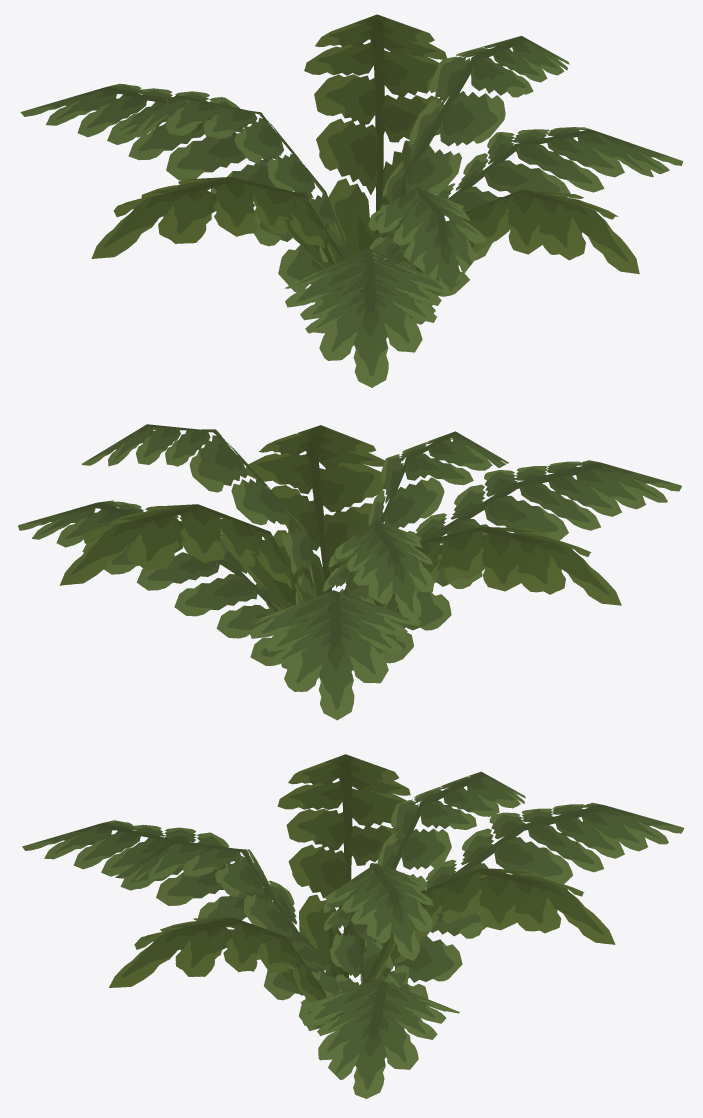
File: SM_Env_Fern_02.fbx
3 views of the same model, one above another, from view 1: azimuth 30°, elevation 25°; view 2: azimuth 150°, elevation 25°; view 3: azimuth 270°, elevation 25° (orthographic). The views are drawn at different scales.
Visible parts, largest first — view 1: SM_Env_Fern_02_LOD0; view 2: SM_Env_Fern_02_LOD0; view 3: SM_Env_Fern_02_LOD0.
Boxes of the visible parts, x1=… form: SM_Env_Fern_02_LOD0: x1=20, y1=14, x2=682, y2=387; SM_Env_Fern_02_LOD0: x1=18, y1=424, x2=681, y2=720; SM_Env_Fern_02_LOD0: x1=22, y1=754, x2=684, y2=1098.
Size of what is drawn, in the model's own units: 203 by 69.4 by 204.
